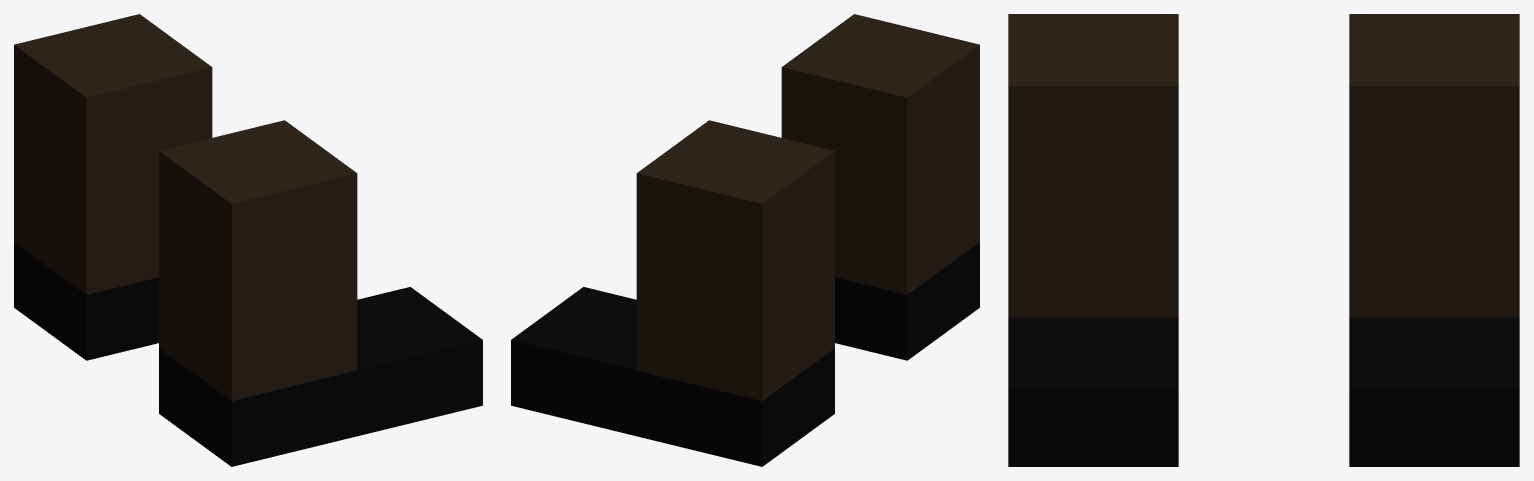
The model's file is boots.obj.
The picture shows the model from 3 angles, left to right: view 1: azimuth 30°, elevation 25°; view 2: azimuth 150°, elevation 25°; view 3: azimuth 270°, elevation 25°; orthographic projection. The views are drawn at different scales.
Parts seen in each view (by area): view 1: entity0_brush3, entity0_brush1, entity0_brush2, entity0_brush0; view 2: entity0_brush1, entity0_brush3, entity0_brush0, entity0_brush2; view 3: entity0_brush1, entity0_brush3, entity0_brush0, entity0_brush2.
Boxes of the visible parts, bbox=[...] form: entity0_brush3: bbox=[159, 120, 357, 400]; entity0_brush1: bbox=[14, 14, 212, 294]; entity0_brush2: bbox=[159, 287, 482, 466]; entity0_brush0: bbox=[14, 242, 158, 360]; entity0_brush1: bbox=[636, 120, 834, 400]; entity0_brush3: bbox=[781, 14, 979, 294]; entity0_brush0: bbox=[511, 287, 834, 466]; entity0_brush2: bbox=[835, 242, 979, 360]; entity0_brush1: bbox=[1349, 14, 1519, 317]; entity0_brush3: bbox=[1008, 14, 1178, 317]; entity0_brush0: bbox=[1349, 317, 1519, 466]; entity0_brush2: bbox=[1008, 317, 1178, 466].
Bounding box in the file's own units: 64 × 64 × 96.
Materials: 2 (2 with a texture image).
